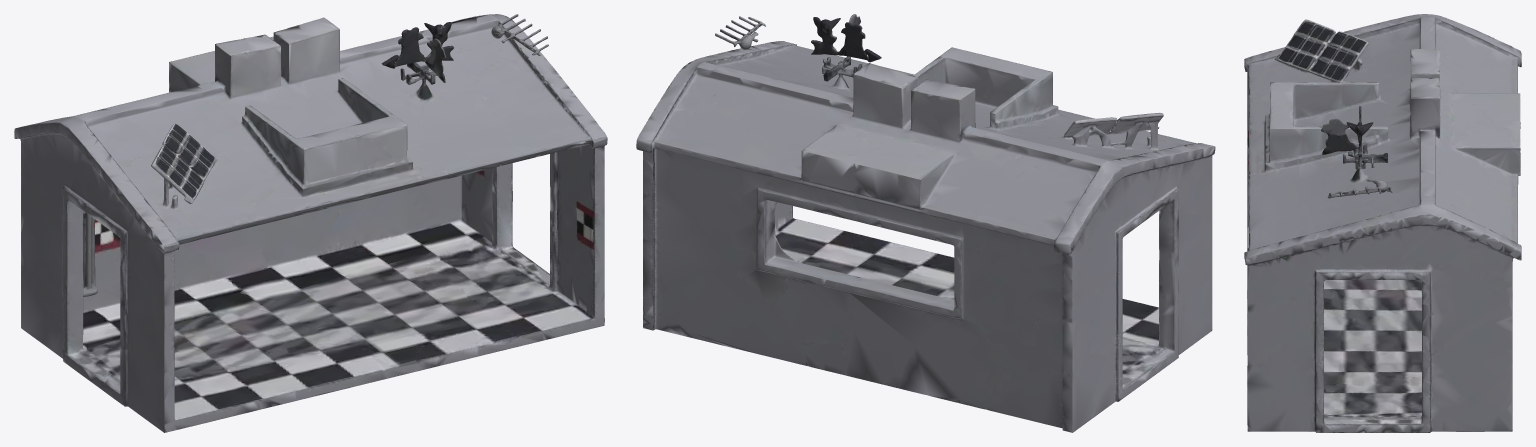
Rendered from Meshy_AI_Rooftop_Pizzeria_Cuta_0926171931_texture (1).glb.
The picture shows the model from 3 angles, left to right: view 1: azimuth 30°, elevation 25°; view 2: azimuth 150°, elevation 25°; view 3: azimuth 270°, elevation 25°; orthographic projection. The views are drawn at different scales.
Size of the model in its own units: 1.9 by 1.16 by 1.11.
1 material, 1 textured.
